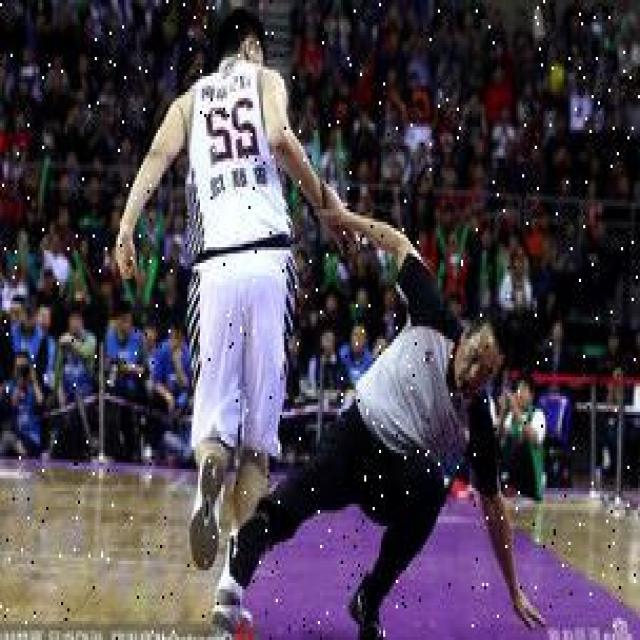fall: (256, 276, 532, 630)
